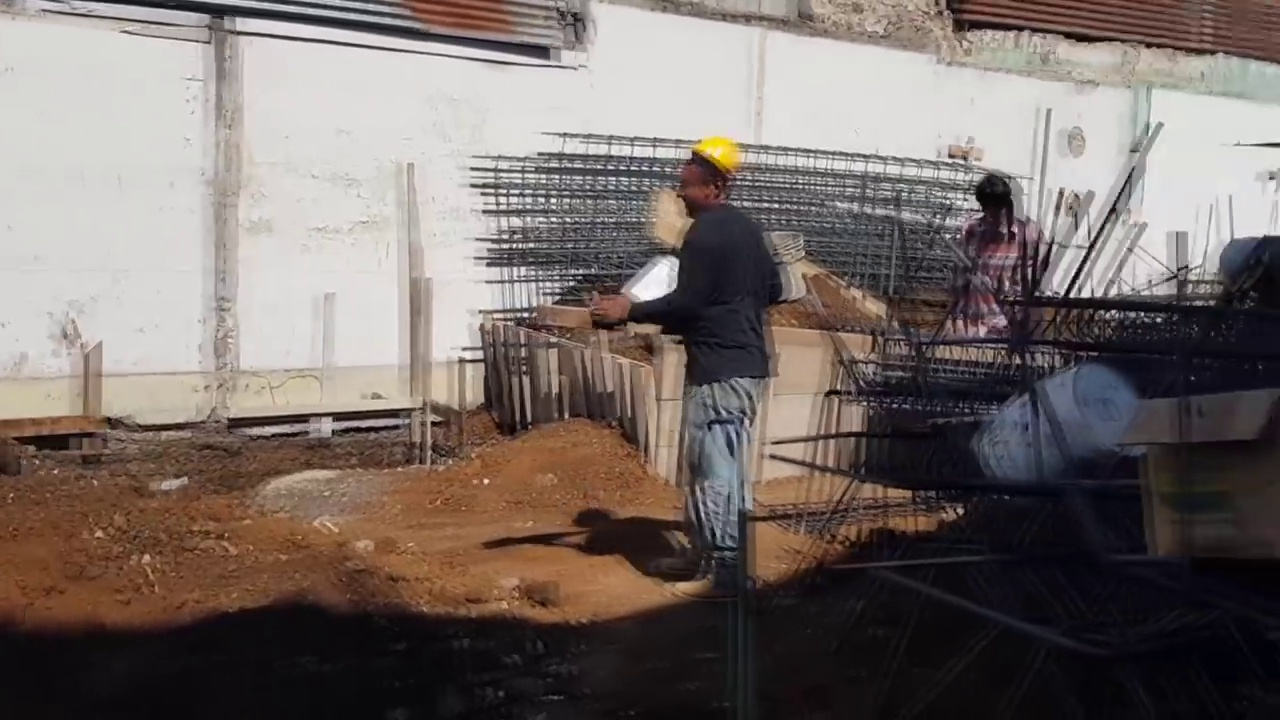helmet: (688, 135, 745, 180)
helmet-off: (970, 170, 1024, 235)
helmet-on: (670, 137, 751, 226)
person: (584, 141, 782, 602), (947, 169, 1041, 360)
